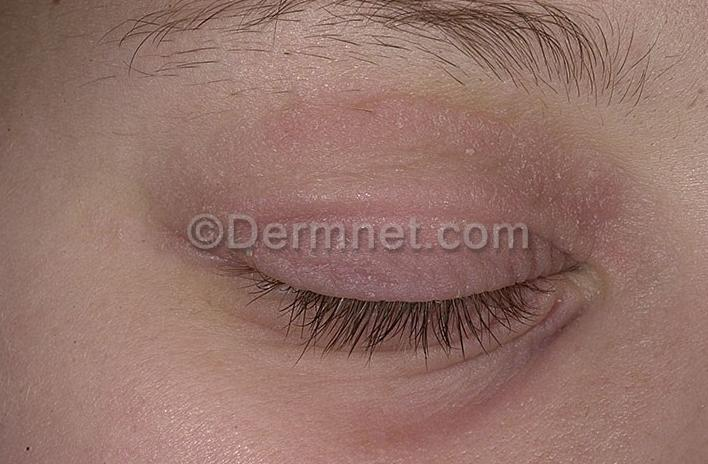edema 1: (165, 114, 627, 299)
eritema 1: (161, 116, 625, 302)
xerosis 1: (129, 89, 636, 305)
